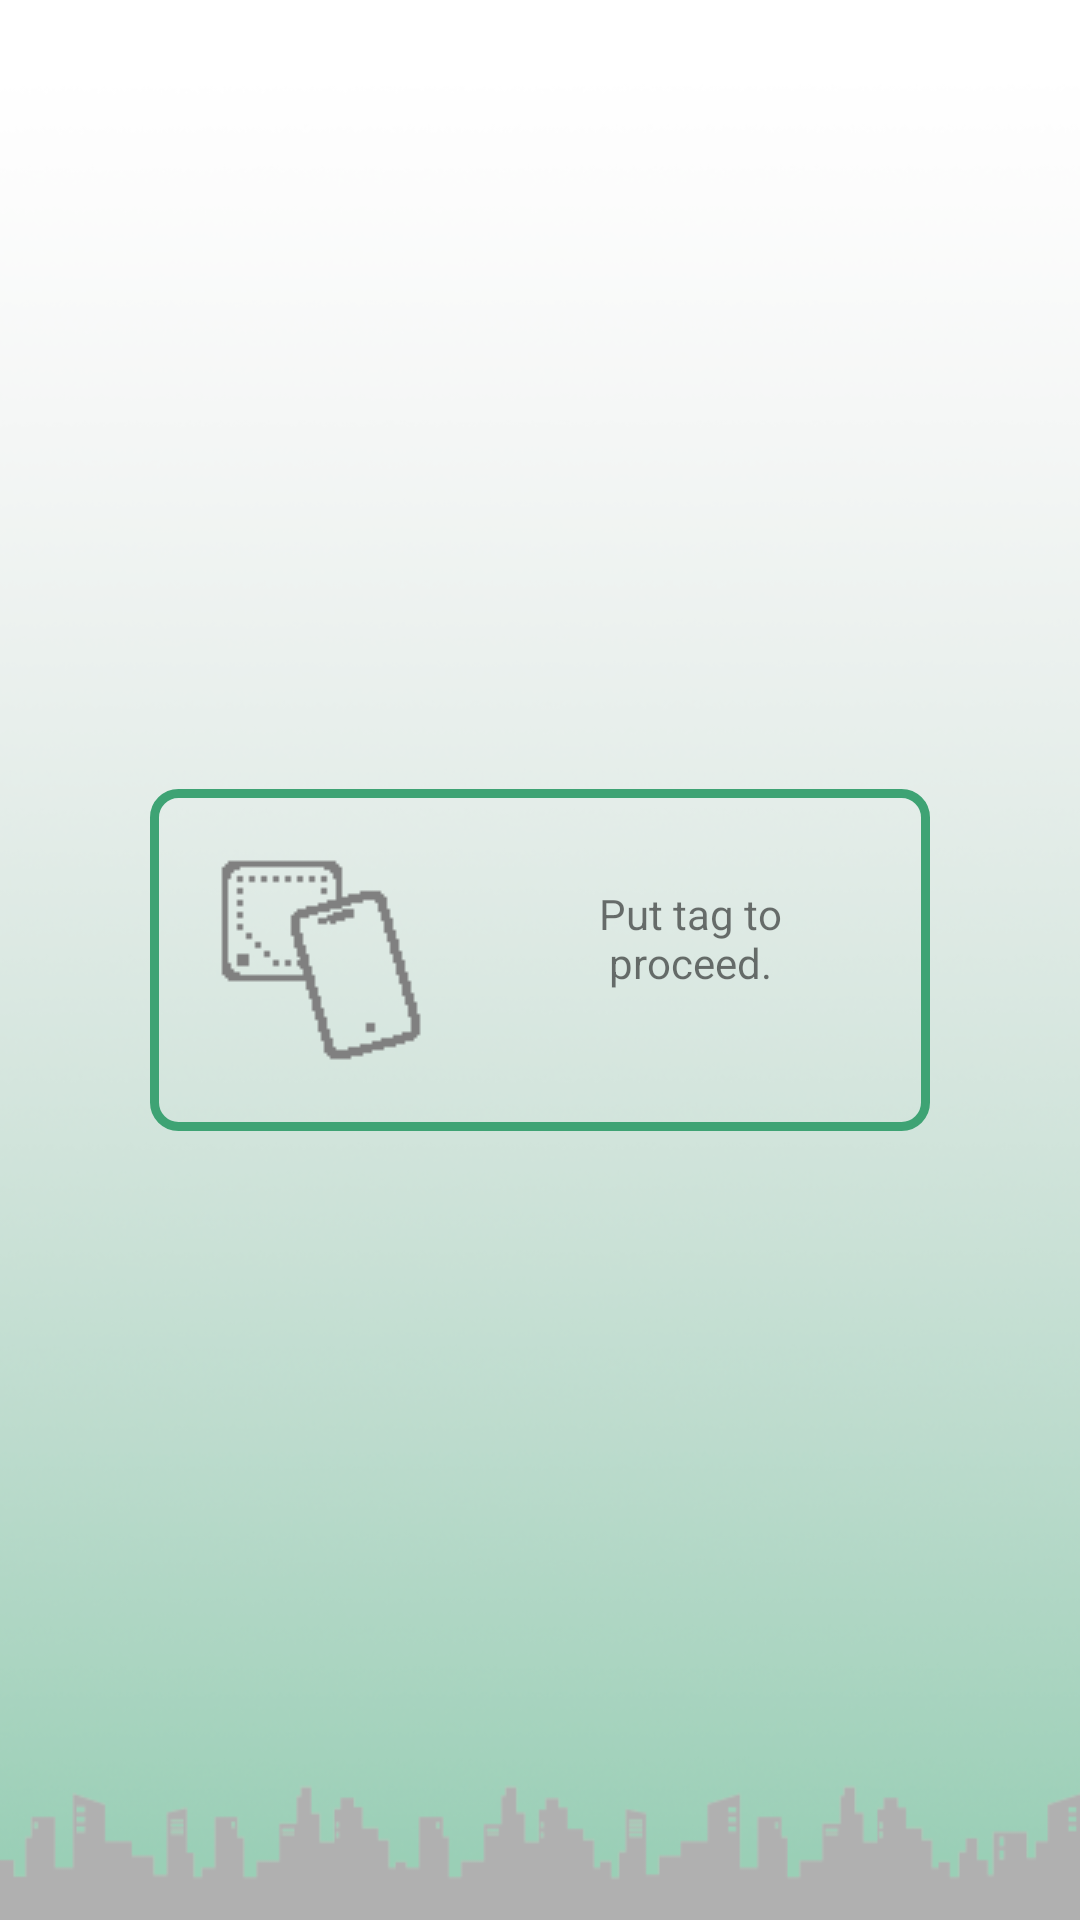

Where to tap for icons on this 1080px x 1920px app screen, as point (x, y):
tag gris: point (321, 960)
